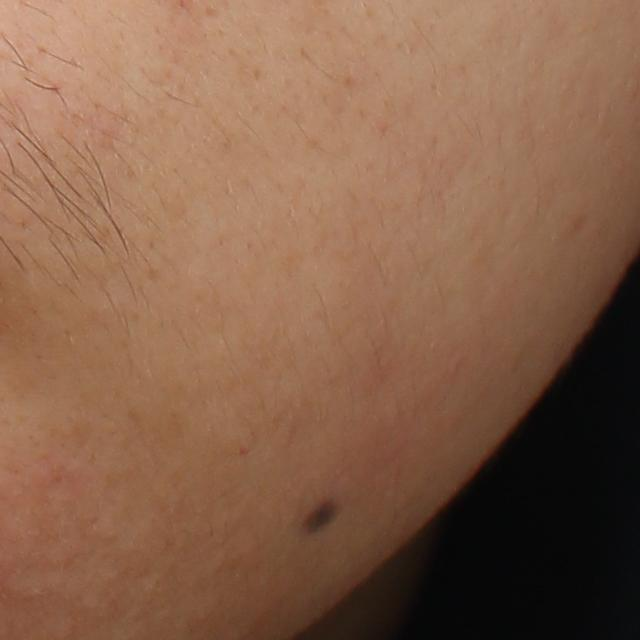nevus: (299, 497, 341, 534)
